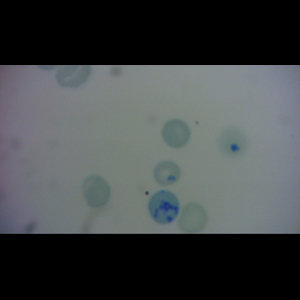aggregate reticulocyte: (146, 189, 181, 225)
erythrocyte: (80, 174, 112, 210), (178, 201, 209, 234), (152, 159, 183, 188)
punctate reticulocyte: (160, 117, 192, 149)
